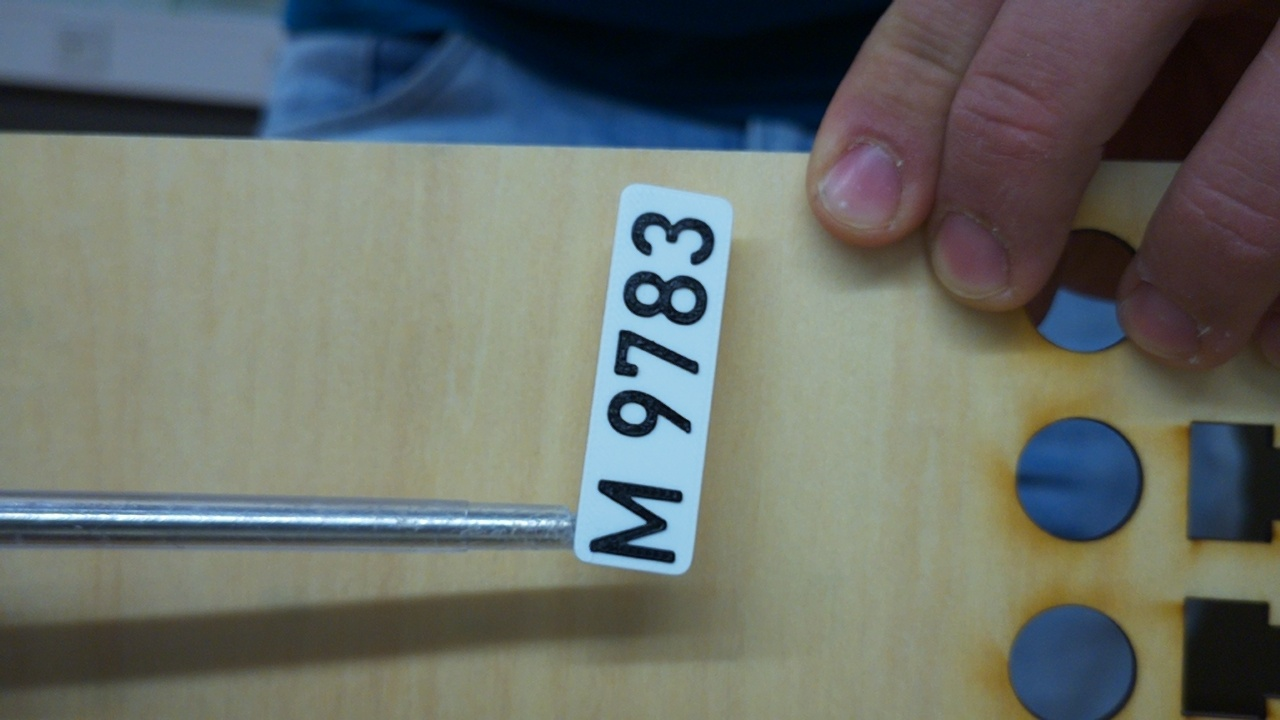license_plate: (572, 178, 737, 578)
